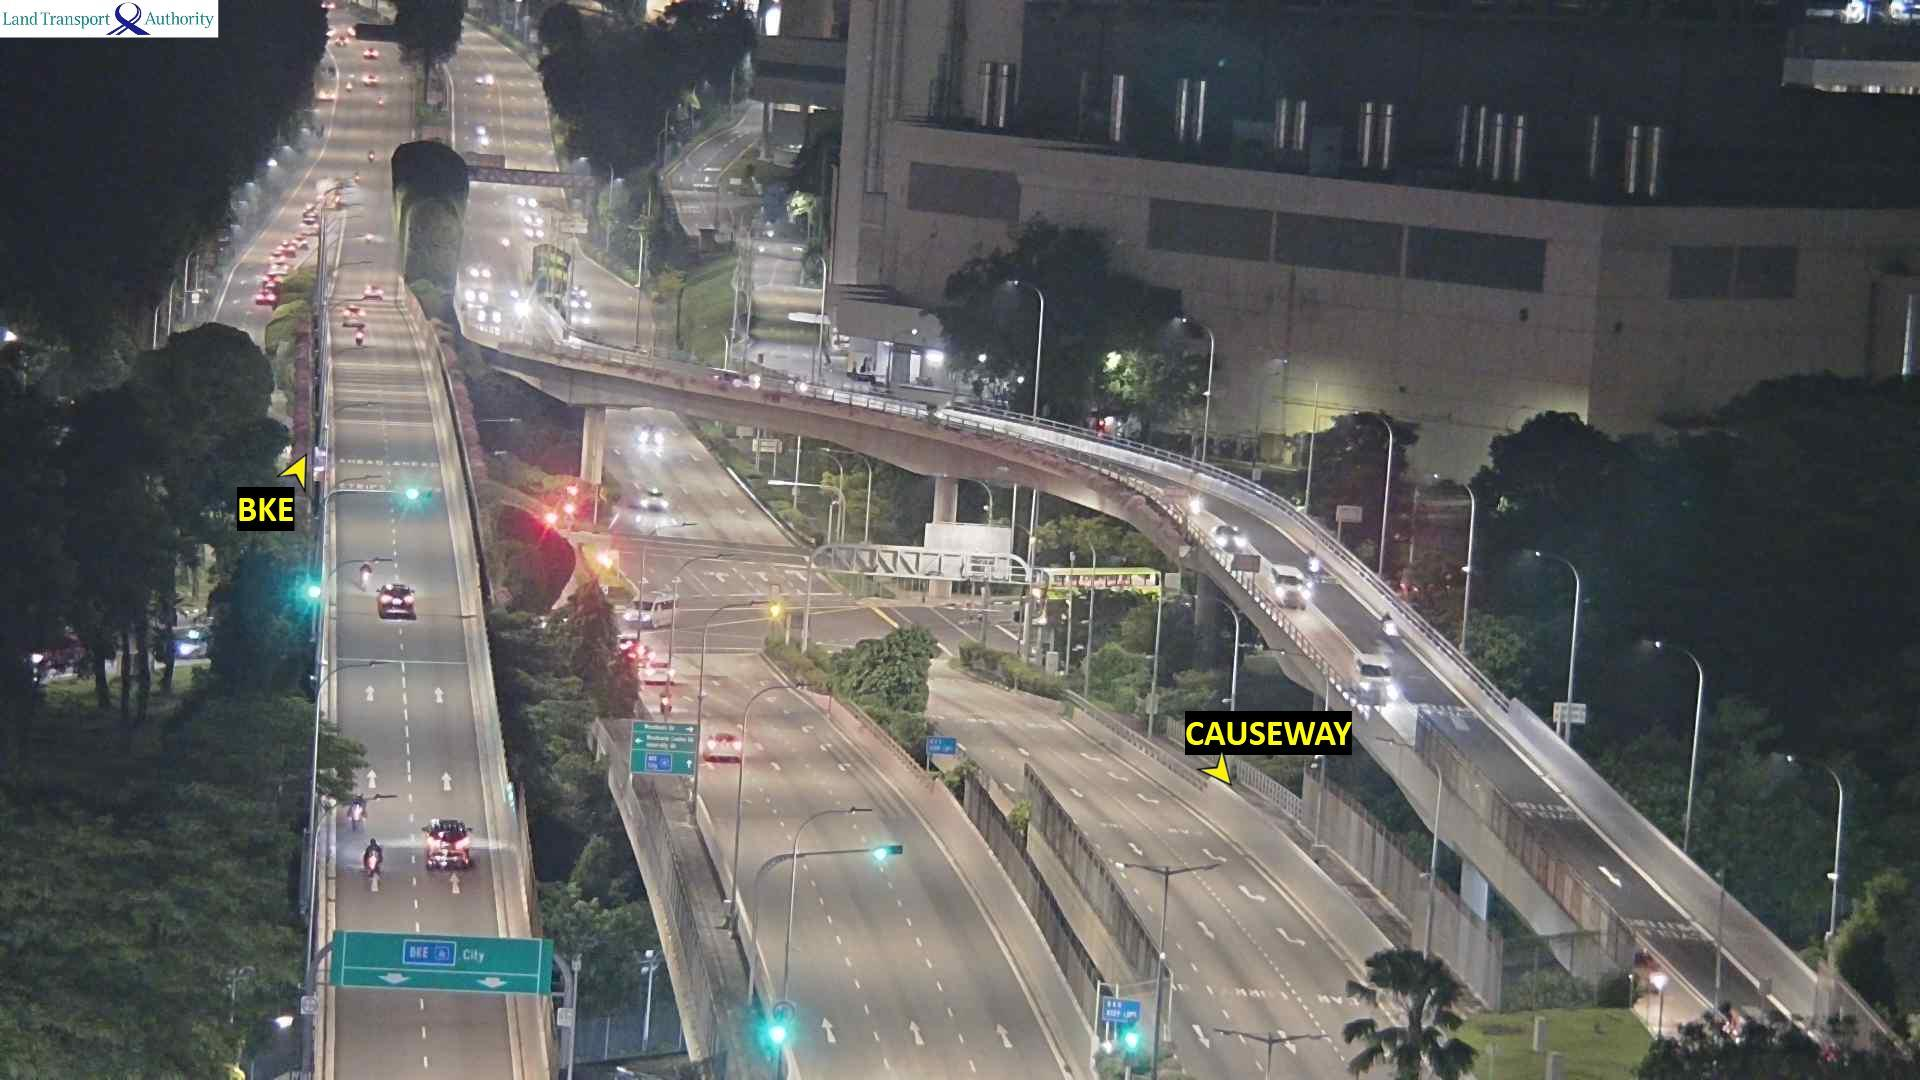vehicle-causeway-johor: (1266, 564, 1309, 612), (1352, 653, 1394, 700), (713, 369, 756, 389), (1379, 609, 1402, 646), (1215, 526, 1244, 549), (469, 261, 495, 285), (762, 389, 791, 404), (1305, 550, 1321, 576), (468, 287, 489, 307), (479, 306, 502, 323), (477, 75, 495, 87), (476, 124, 488, 137), (501, 236, 512, 251), (512, 289, 522, 299), (481, 138, 488, 149)
vehicle-causeway-singapore: (426, 819, 475, 864), (384, 585, 419, 620), (704, 733, 741, 762), (367, 839, 382, 878), (349, 791, 365, 827), (344, 306, 365, 326), (363, 284, 382, 301), (361, 559, 371, 591), (662, 690, 673, 715), (356, 326, 364, 345)
